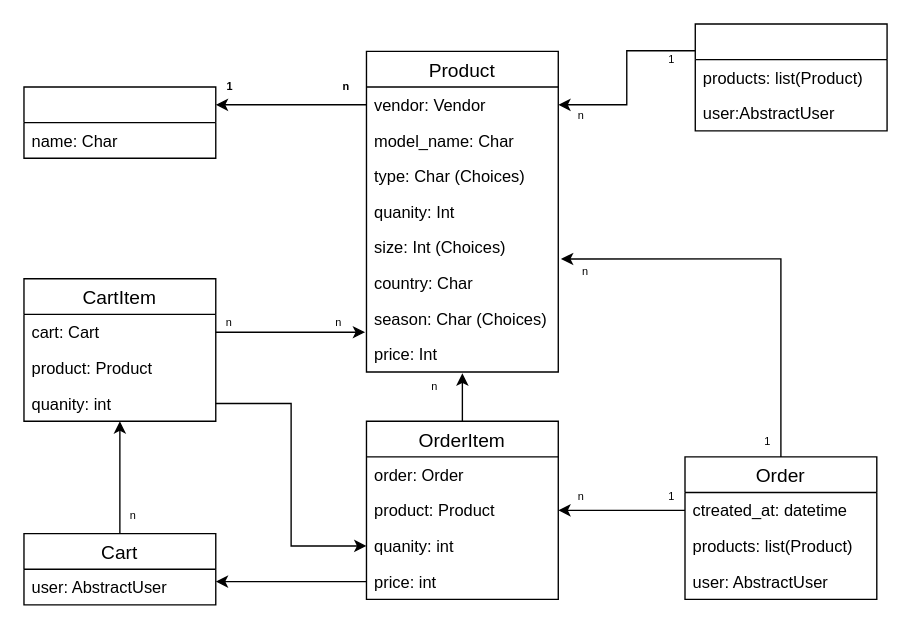
Some shapes in this 911 by 633 pixel diagram are drawn without their labels. The shapes that lost their labels are listed below. From the top down, each one's box as (x1, y1, x2, y2) in pixels, then its label:
(694, 23, 887, 131): Wishlist
(23, 86, 216, 158): Vendor
